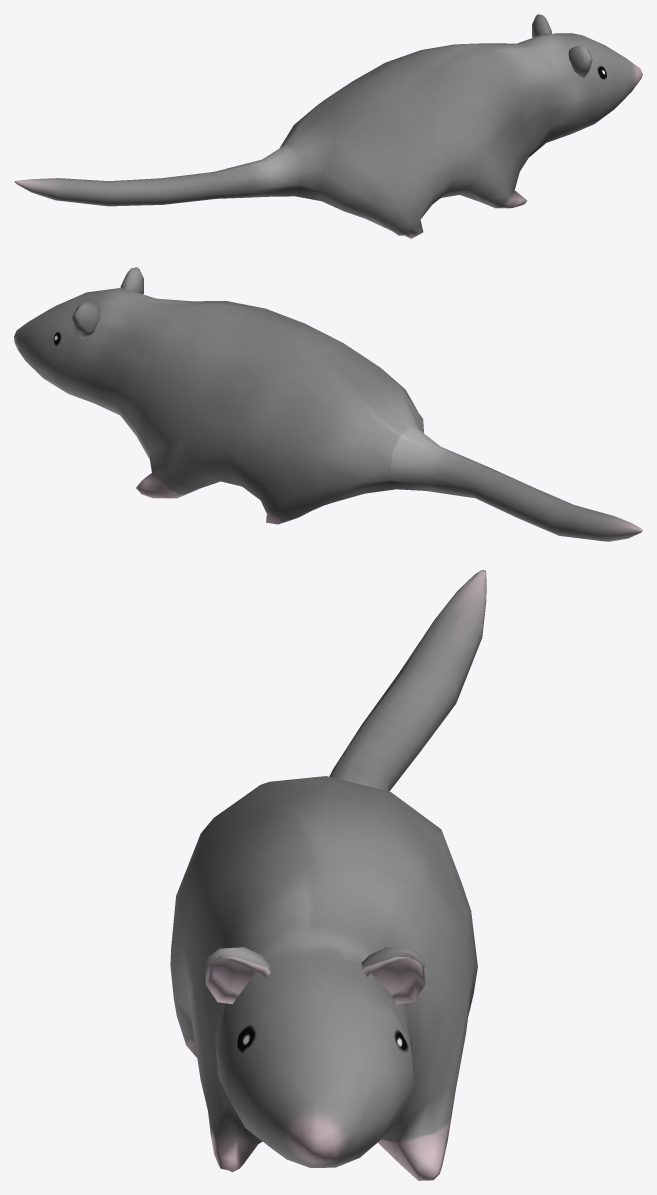
File: Rat Plushie.fbx
3 renders of one model, top to bottom at view 1: azimuth 30°, elevation 25°; view 2: azimuth 150°, elevation 25°; view 3: azimuth 270°, elevation 25°, orthographic. The views are drawn at different scales.
Visible parts, largest first — view 1: Rat Plushie; view 2: Rat Plushie; view 3: Rat Plushie.
Boxes of the visible parts, x1,y1,x2,y2 form: Rat Plushie: (14, 14, 642, 238); Rat Plushie: (14, 267, 642, 541); Rat Plushie: (170, 570, 486, 1180).
Bounding box in the file's own units: 99.97 × 428 × 109.
